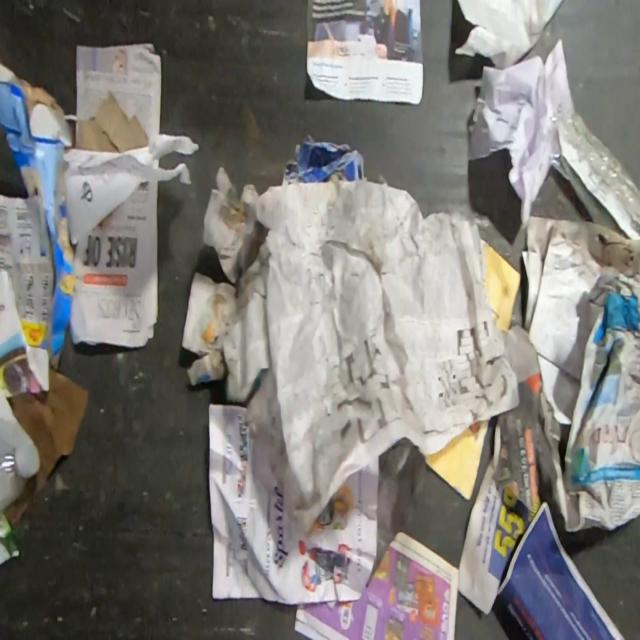cardboard: (0, 60, 78, 371), (555, 123, 640, 239), (280, 131, 368, 186), (74, 89, 148, 153)
rigid_plastic: (0, 416, 42, 515)
soft_plastic: (549, 108, 640, 223)
